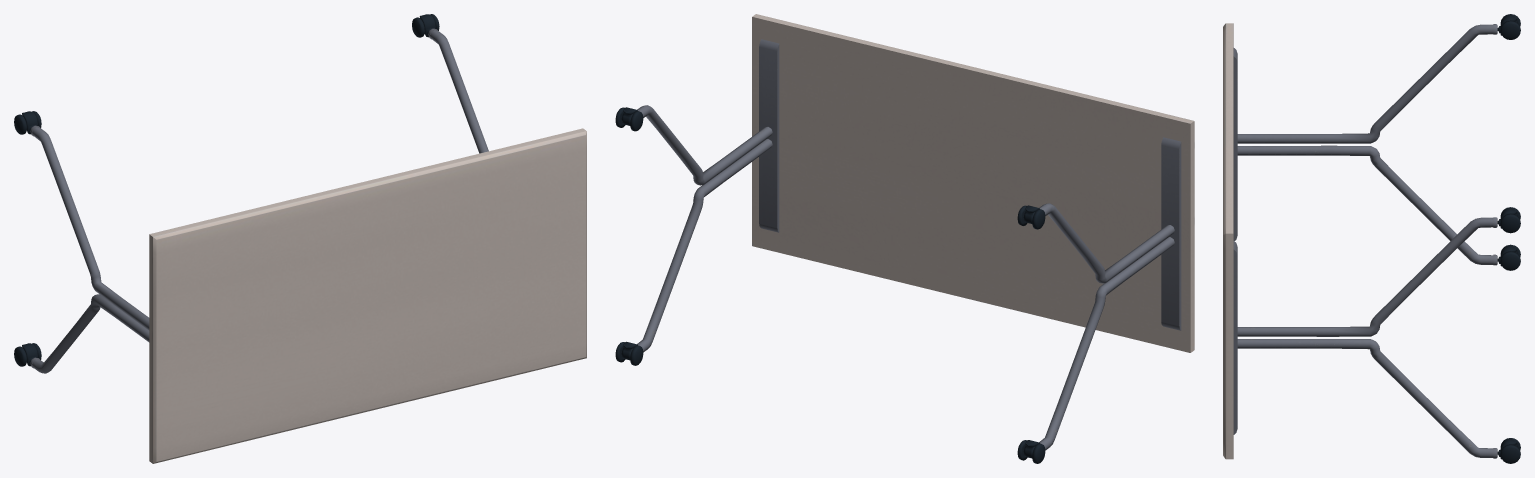
File: office_table.obj
3 renders of one model, left to right at view 1: azimuth 30°, elevation 25°; view 2: azimuth 150°, elevation 25°; view 3: azimuth 270°, elevation 25°, orthographic.
Visible parts, largest first — view 1: defaultMaterial; view 2: defaultMaterial; view 3: defaultMaterial.
Part boxes in pixels (x1,y1,x2,y2): defaultMaterial: (14,14,586,463); defaultMaterial: (615,14,1194,463); defaultMaterial: (1223,14,1520,463).
Bounding box in the file's own units: 1.2 × 0.6642 × 0.7167.
Materials: 1 (1 with a texture image).
